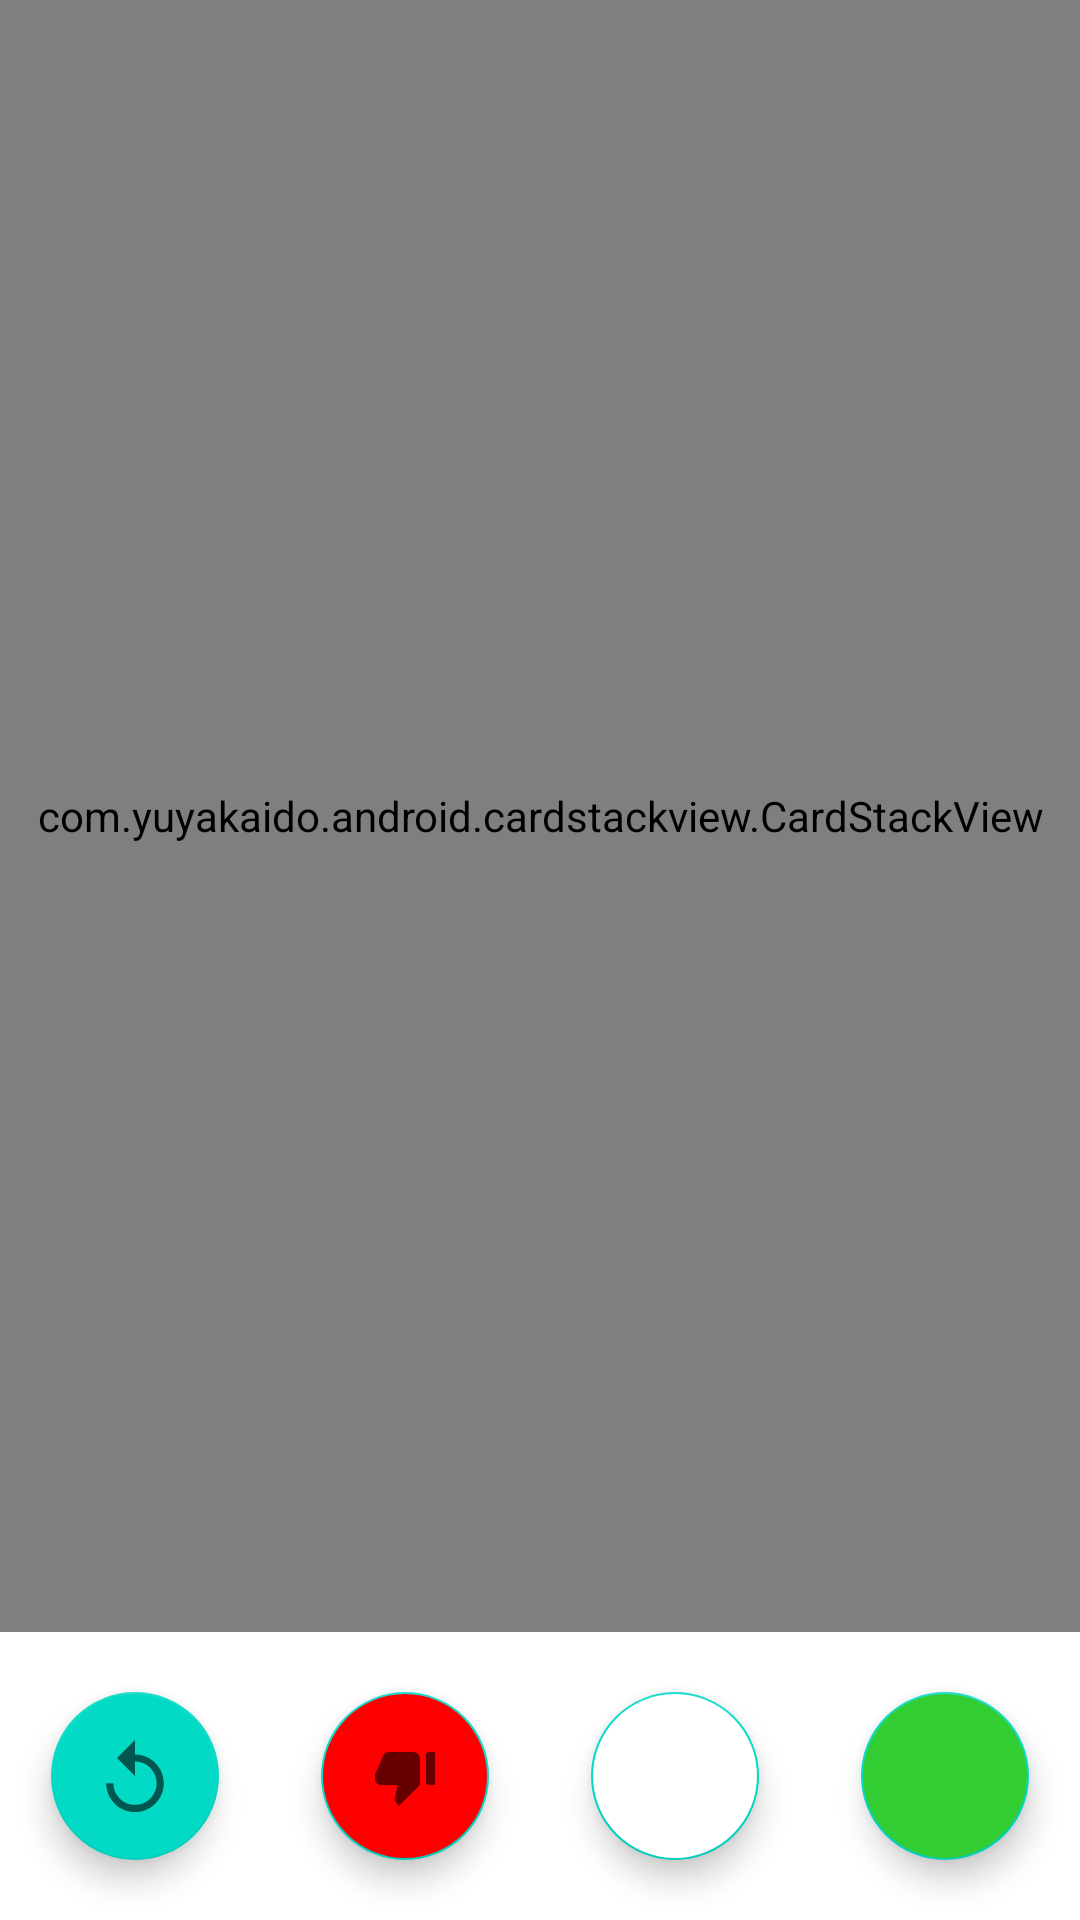

Icon click points for this 1080 × 1920 phone screenshot, format point (x, y):
dislike: point (405, 1776)
rewind: point (135, 1776)
